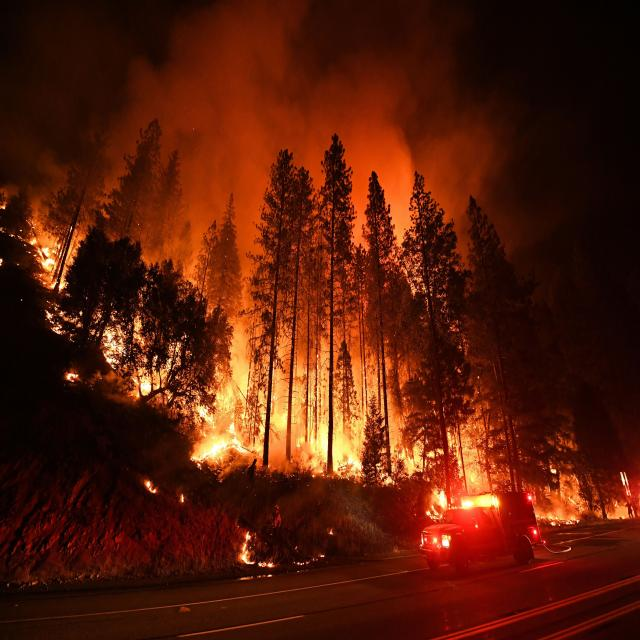Fire: (181, 393, 257, 480), (25, 220, 74, 308), (305, 434, 369, 485), (97, 335, 124, 374)
